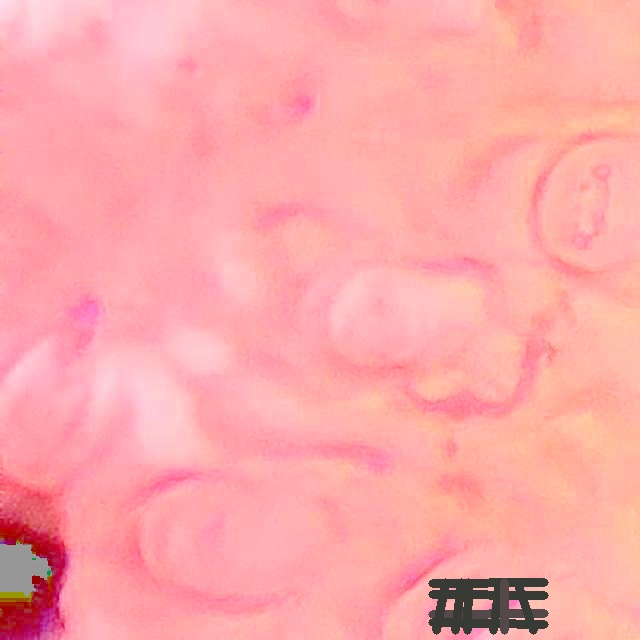open: (428, 579, 548, 634)
